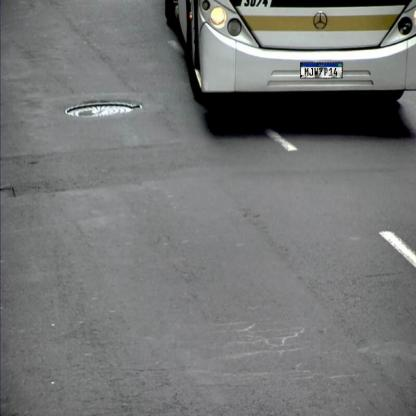PlacaM: (300, 63, 343, 78)
